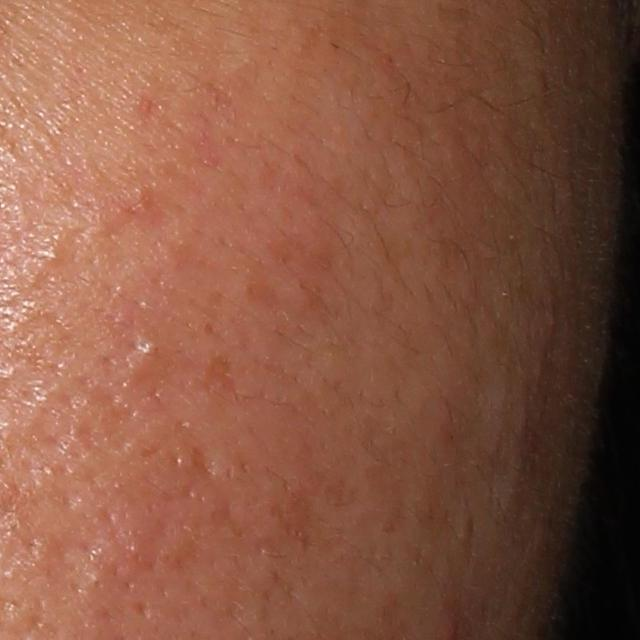atrophic_scar: (189, 446, 217, 479)
comedo: (131, 338, 159, 371), (40, 245, 64, 268)
